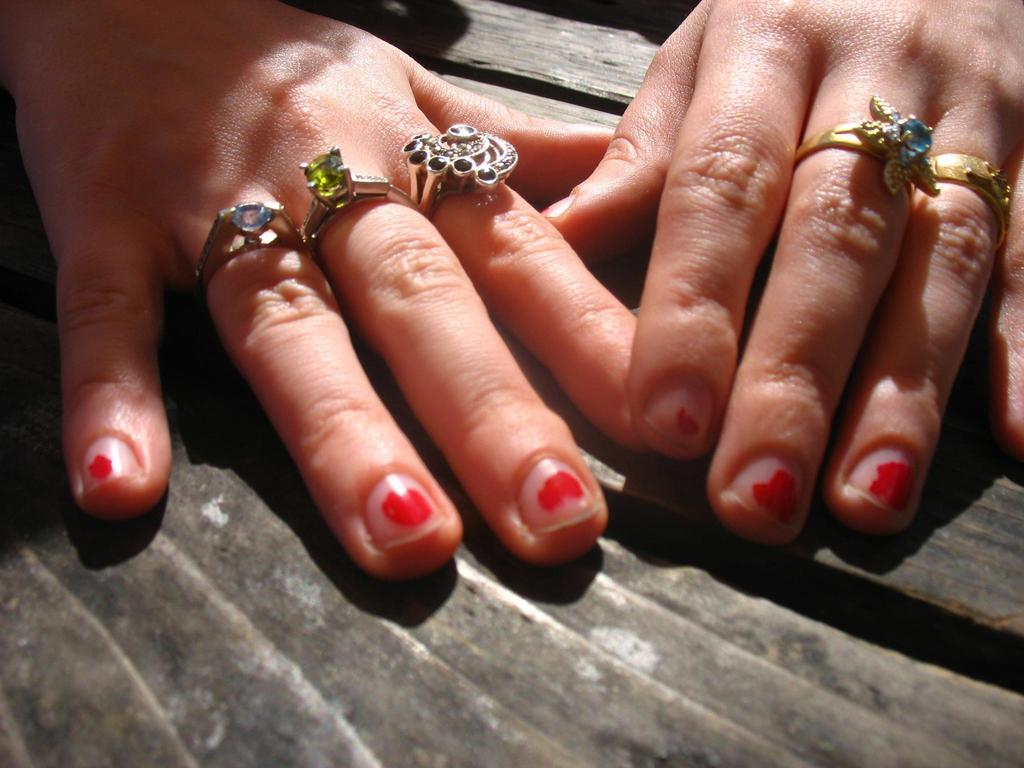Human_hand: (17, 4, 650, 582), (542, 0, 1023, 547)
